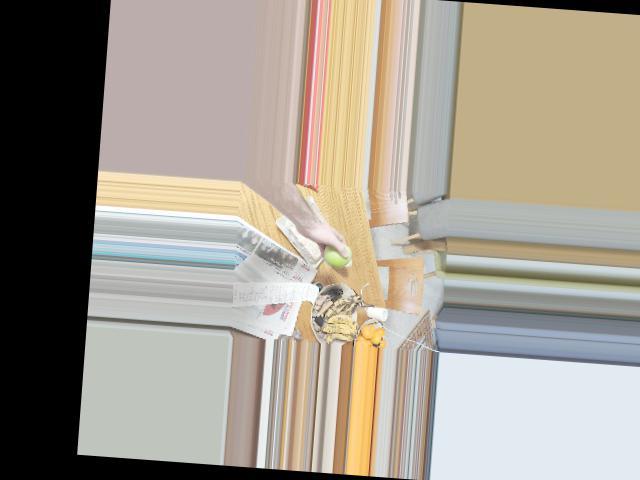apple: (320, 238, 354, 270)
